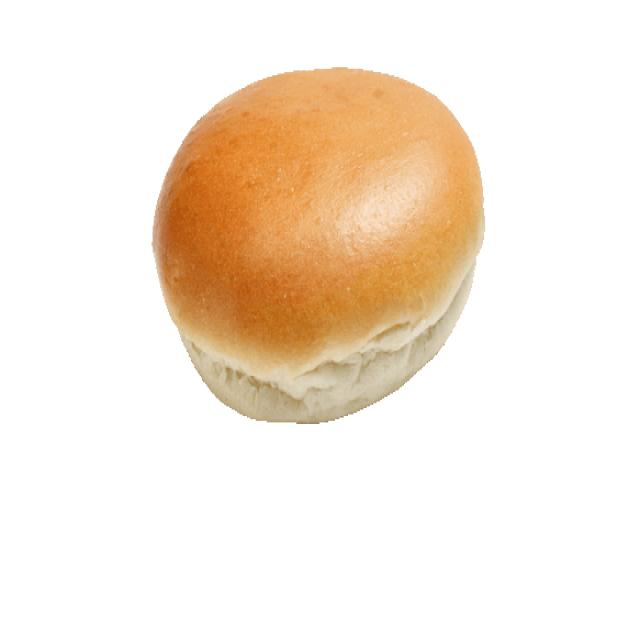Bun: (154, 68, 488, 438)
